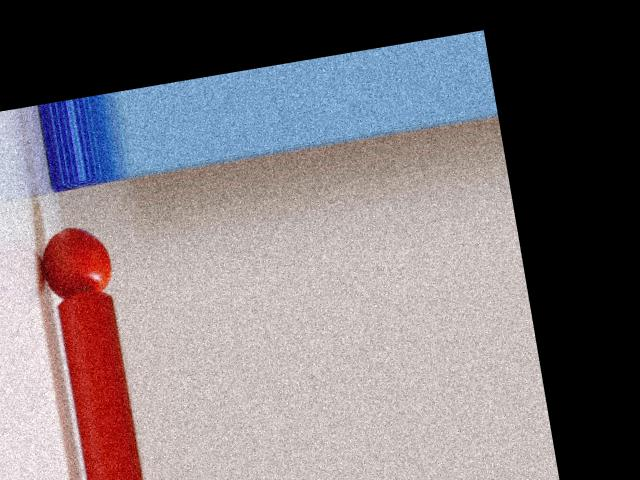tomato: (36, 222, 114, 300)
